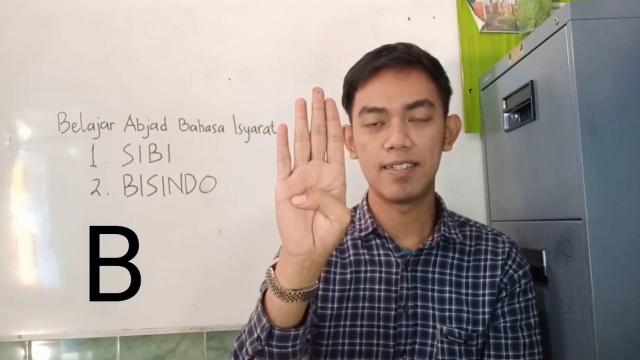B: (274, 85, 352, 267)
